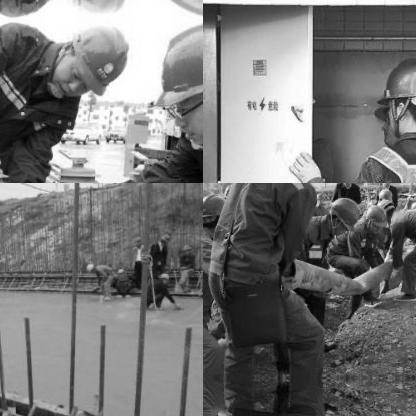Helmet: (145, 20, 202, 146), (56, 22, 138, 102), (374, 47, 415, 139), (55, 0, 140, 16), (325, 193, 359, 232), (203, 187, 226, 234), (360, 203, 384, 229), (377, 198, 395, 214), (157, 270, 169, 284), (132, 235, 144, 248), (84, 261, 96, 273), (180, 242, 190, 256), (158, 232, 168, 244), (338, 183, 352, 186)
